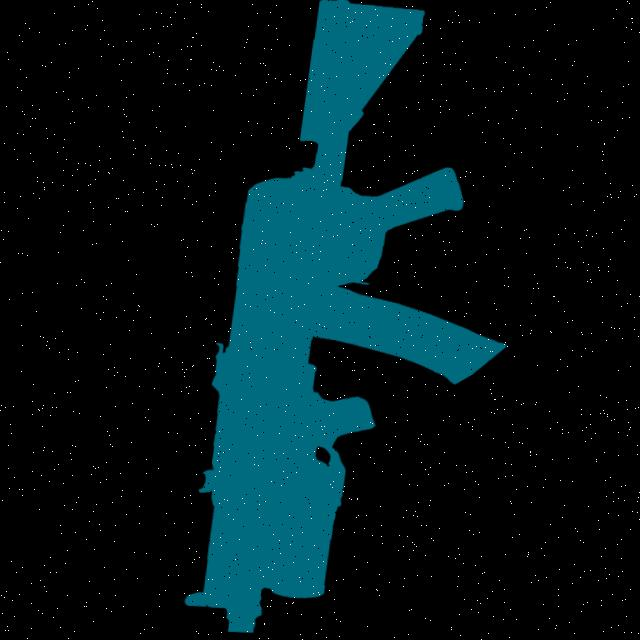firearm: (182, 0, 551, 636)
